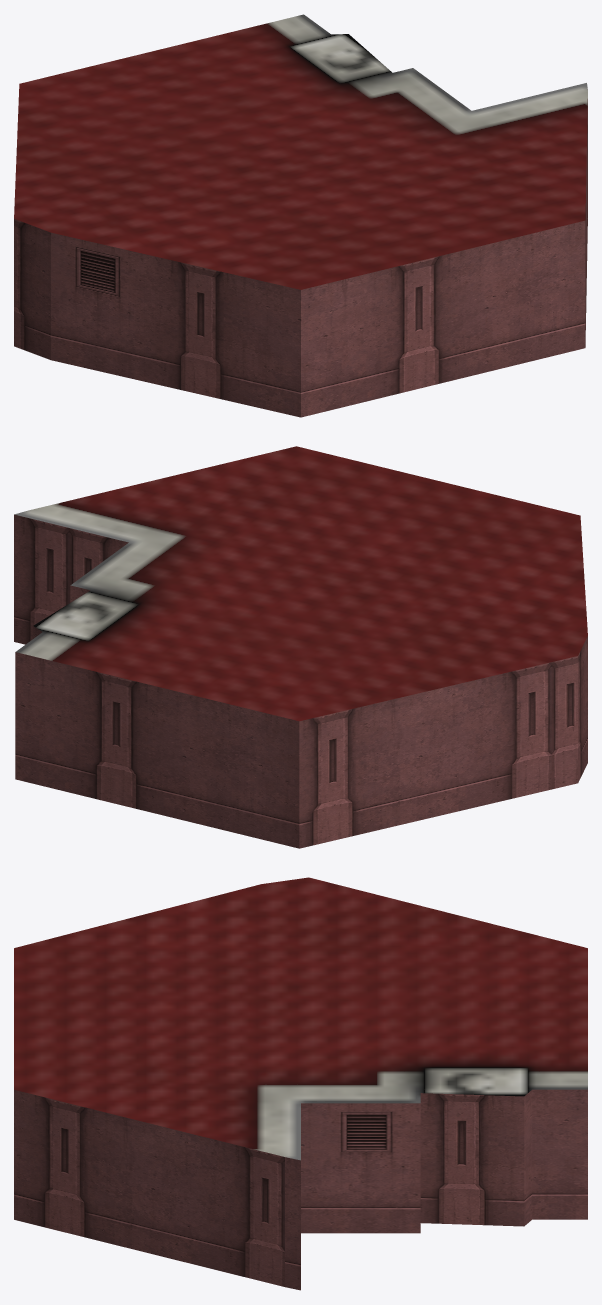
File: hardened_roof61.glb
The picture shows the model from 3 angles, top to bottom: view 1: azimuth 30°, elevation 25°; view 2: azimuth 150°, elevation 25°; view 3: azimuth 270°, elevation 25°; orthographic projection. The views are drawn at different scales.
Parts seen in each view (by area): view 1: buildings/saxarba/hard/hardened_roof61; view 2: buildings/saxarba/hard/hardened_roof61; view 3: buildings/saxarba/hard/hardened_roof61.
Boxes of the visible parts, x1,y1,x2,y2 form: buildings/saxarba/hard/hardened_roof61: [14, 14, 587, 417]; buildings/saxarba/hard/hardened_roof61: [14, 446, 587, 848]; buildings/saxarba/hard/hardened_roof61: [14, 877, 587, 1290].
Size of the model in its own units: 84 by 18 by 72.
